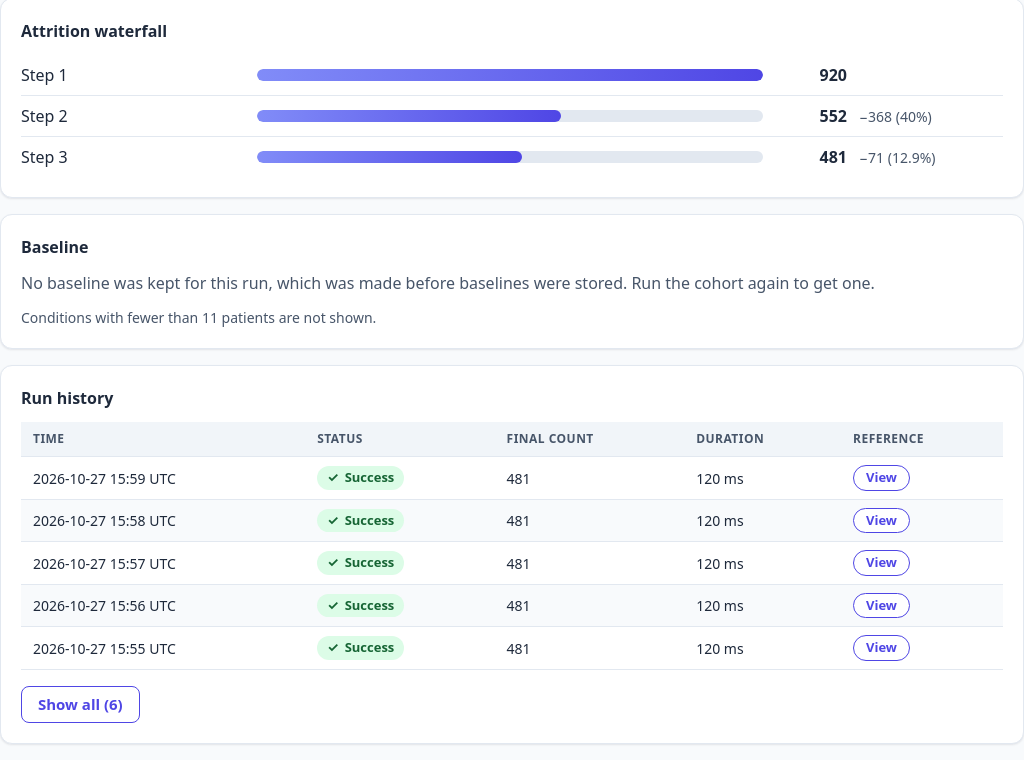
The run history shows the latest 5 runs and can show all › reports whether the full list is shown to assistive technology
(page scrolled)
Click the button "Show all (6)".
click(80, 704)  # box [21,686,140,723]
(page scrolled)
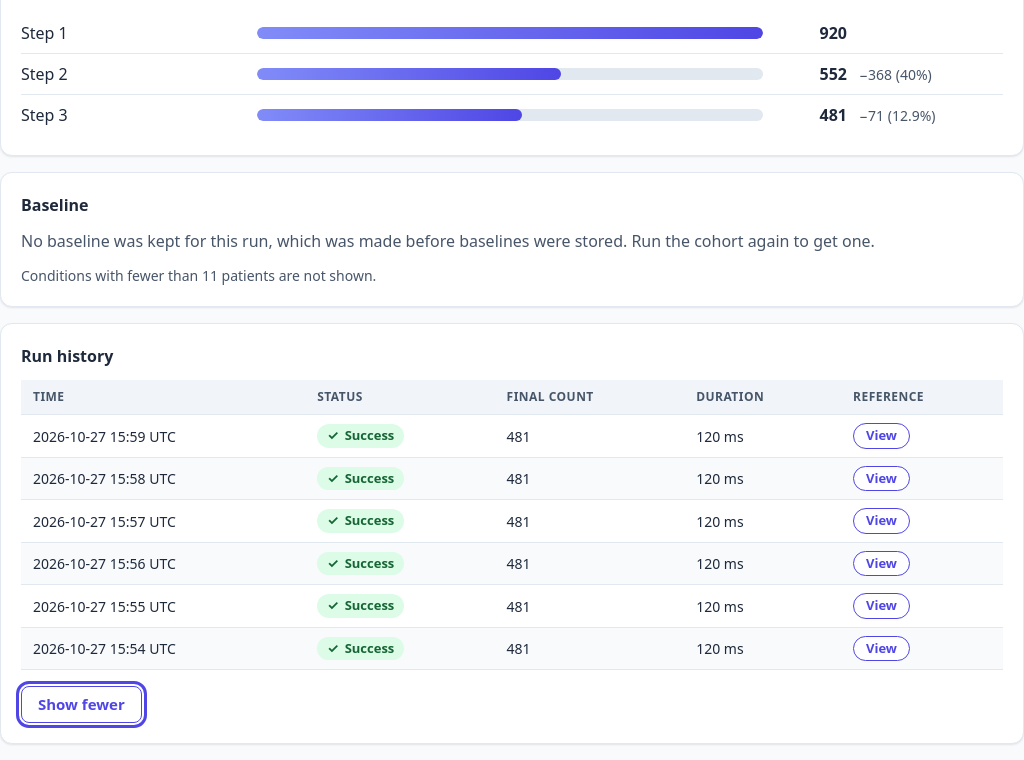
Now the button "Show fewer" is expanded, box [21,686,142,723]
